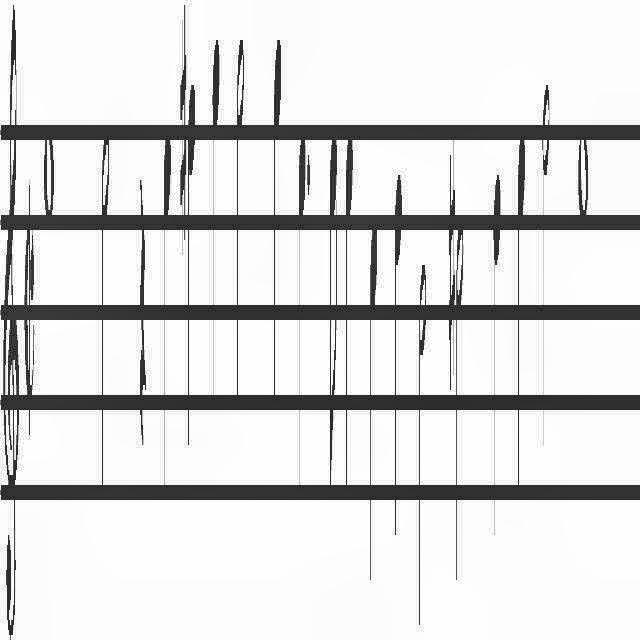Bass-clef: (2, 0, 20, 640)
Diez: (448, 125, 456, 395), (180, 6, 188, 270)
Eighth-note: (330, 120, 338, 504)
Full-note: (578, 120, 588, 224), (44, 126, 54, 210)
Half-note: (100, 125, 110, 505), (236, 25, 244, 415), (456, 210, 464, 594), (418, 260, 426, 636), (542, 84, 550, 460)
Quarter-note: (516, 120, 526, 516), (162, 110, 172, 500), (272, 31, 282, 406), (491, 175, 501, 550), (187, 75, 196, 455), (393, 170, 402, 550), (298, 120, 306, 504), (345, 120, 353, 504), (370, 210, 378, 586), (212, 35, 220, 405)
Quarter-rest: (138, 180, 148, 460)
